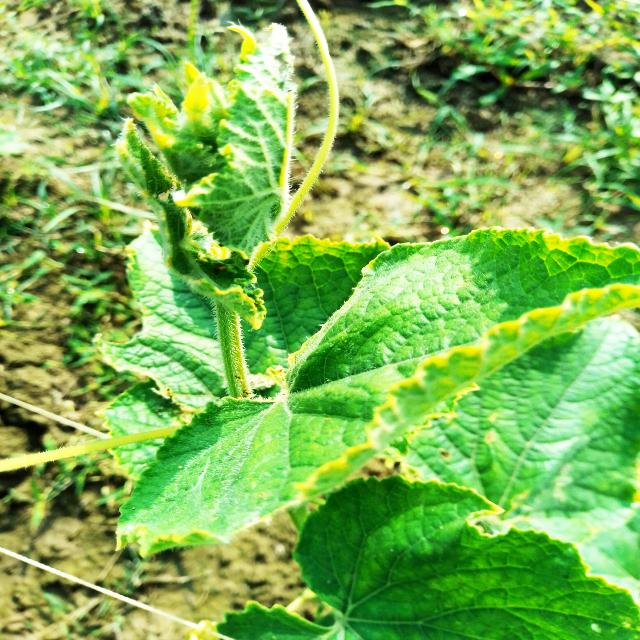Fresh-Leaf: (114, 228, 640, 563), (220, 477, 640, 640)
